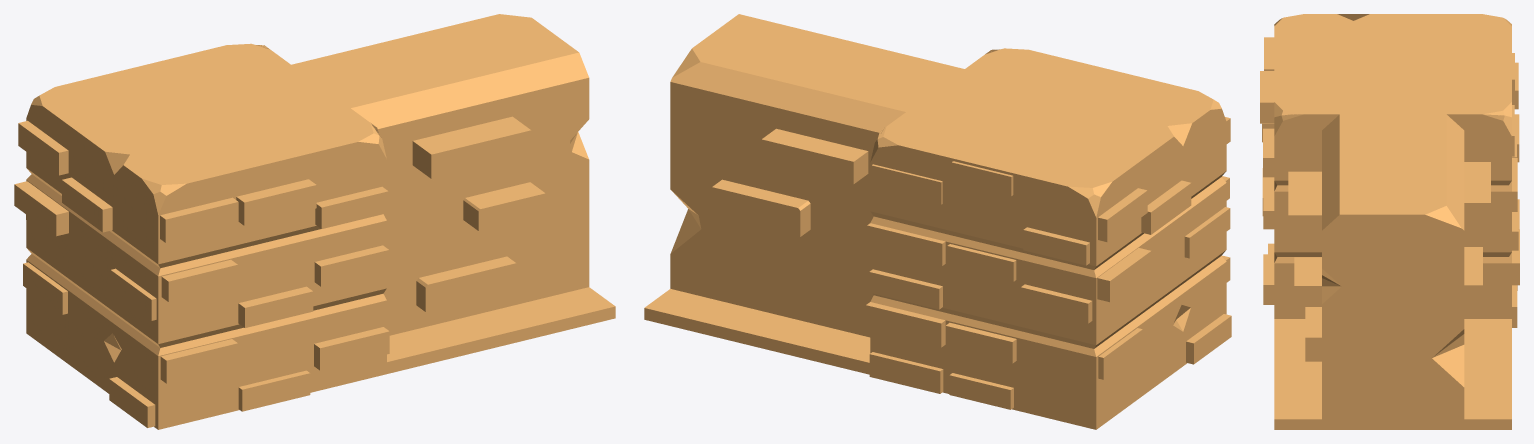
File: 2x1 Wall.fbx
3 views of the same model, side by side, from view 1: azimuth 30°, elevation 25°; view 2: azimuth 150°, elevation 25°; view 3: azimuth 270°, elevation 25° (orthographic). The views are drawn at different scales.
Visible parts, largest first — view 1: 2x1 Wall; view 2: 2x1 Wall; view 3: 2x1 Wall.
Part boxes in pixels (x1,y1,x2,y2): 2x1 Wall: (14, 14, 615, 429); 2x1 Wall: (644, 14, 1231, 429); 2x1 Wall: (1260, 14, 1519, 429).
Bounding box in the file's own units: 206 × 100 × 109.
